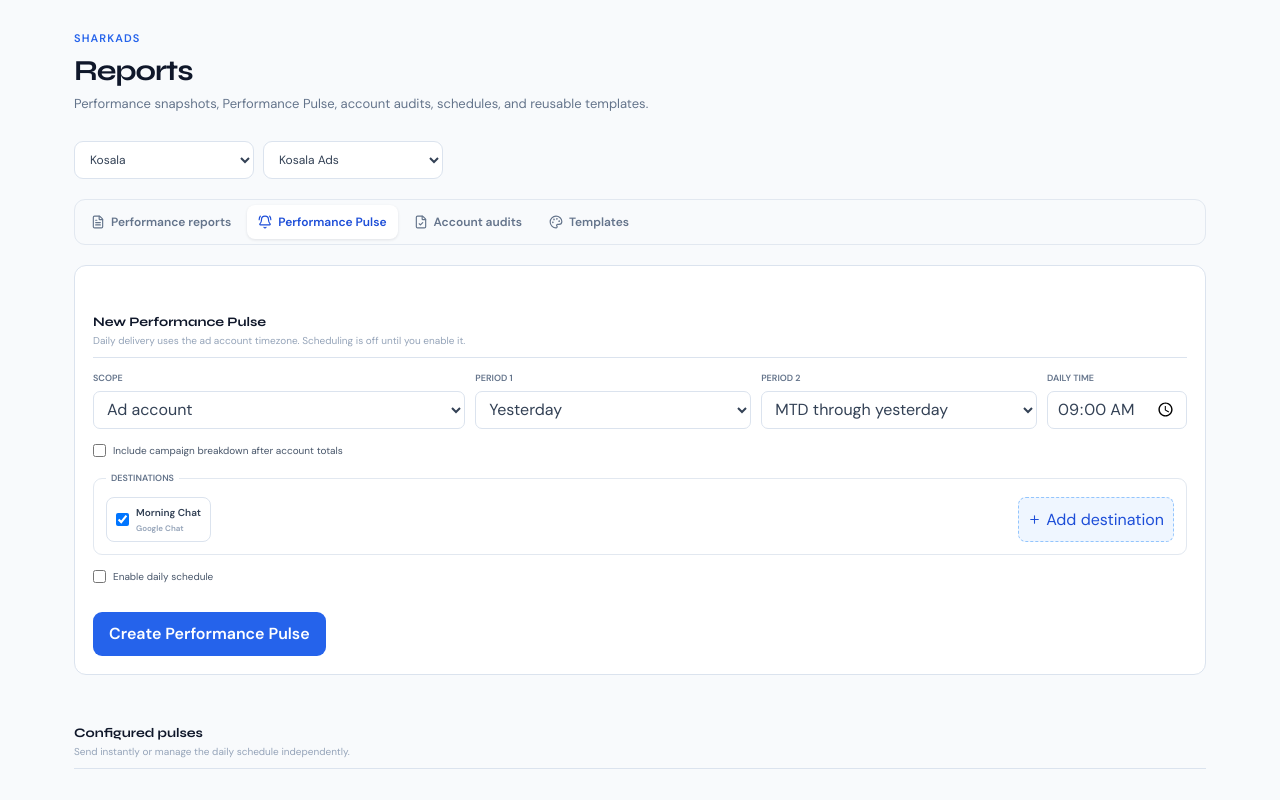
Test case: Performance Pulse reports tab › allows campaign scope and removes the account breakdown option
Expected: the text "Morning Chat" is shown, [136,506,201,519]
Select "Lead Search" in the dropdown labelled "Scope" at {"x": 279, "y": 410}, box [93,391,465,429]
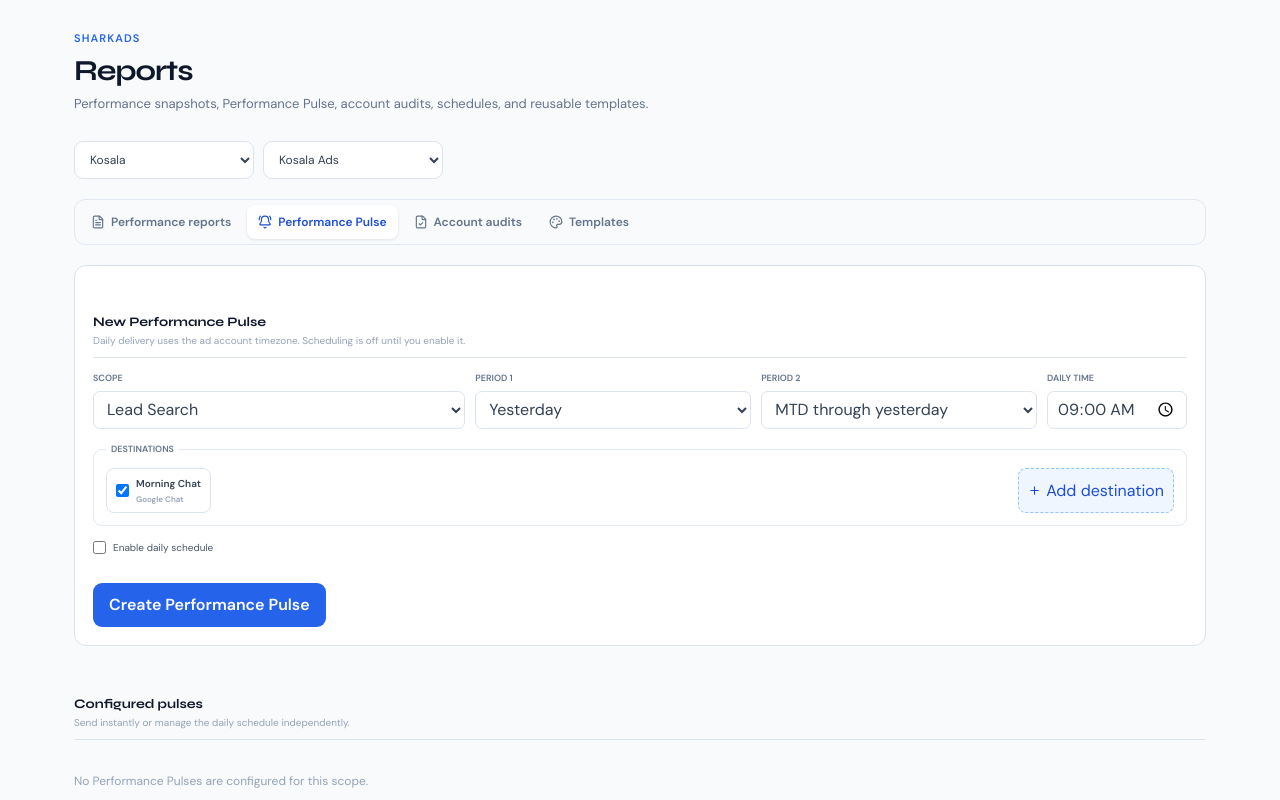
Now the text "Include campaign breakdown after account totals" is gone
